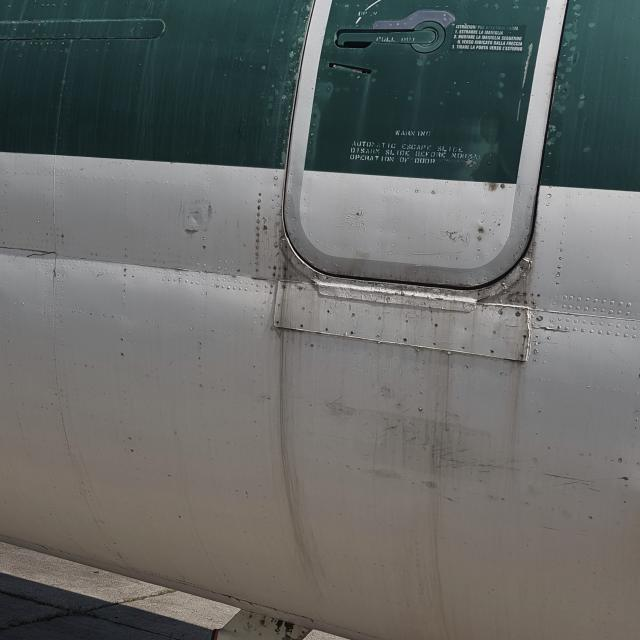Rupture: (25, 250, 58, 263)
